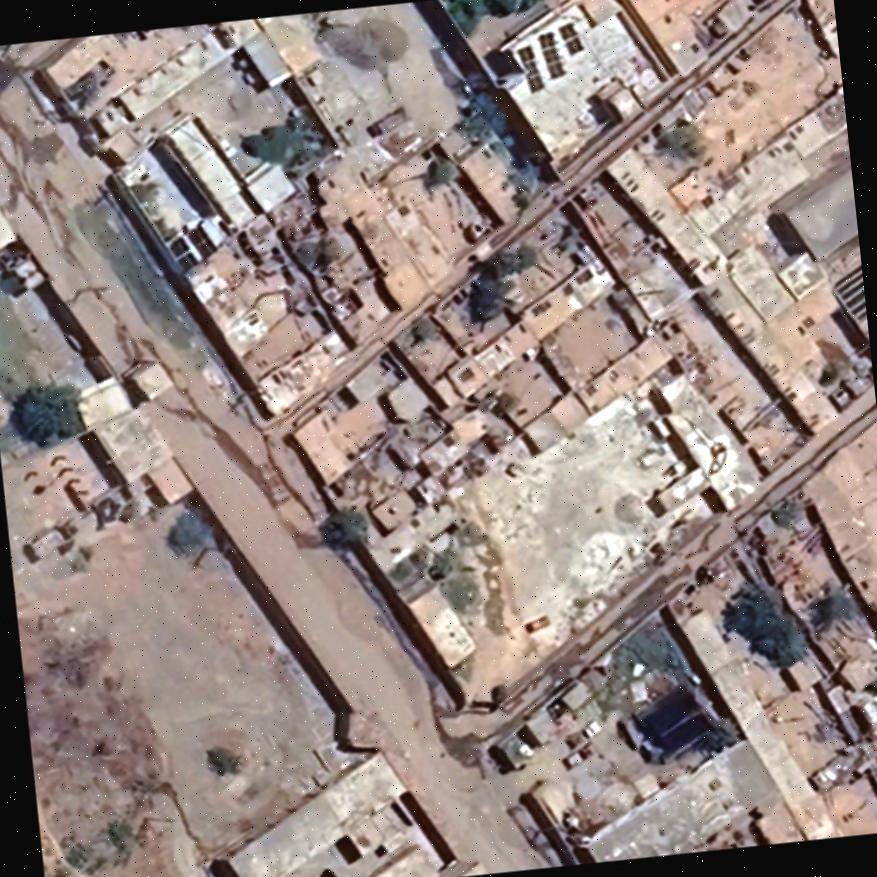Solarpanel: (514, 37, 550, 94), (533, 27, 570, 82), (553, 16, 591, 62)
